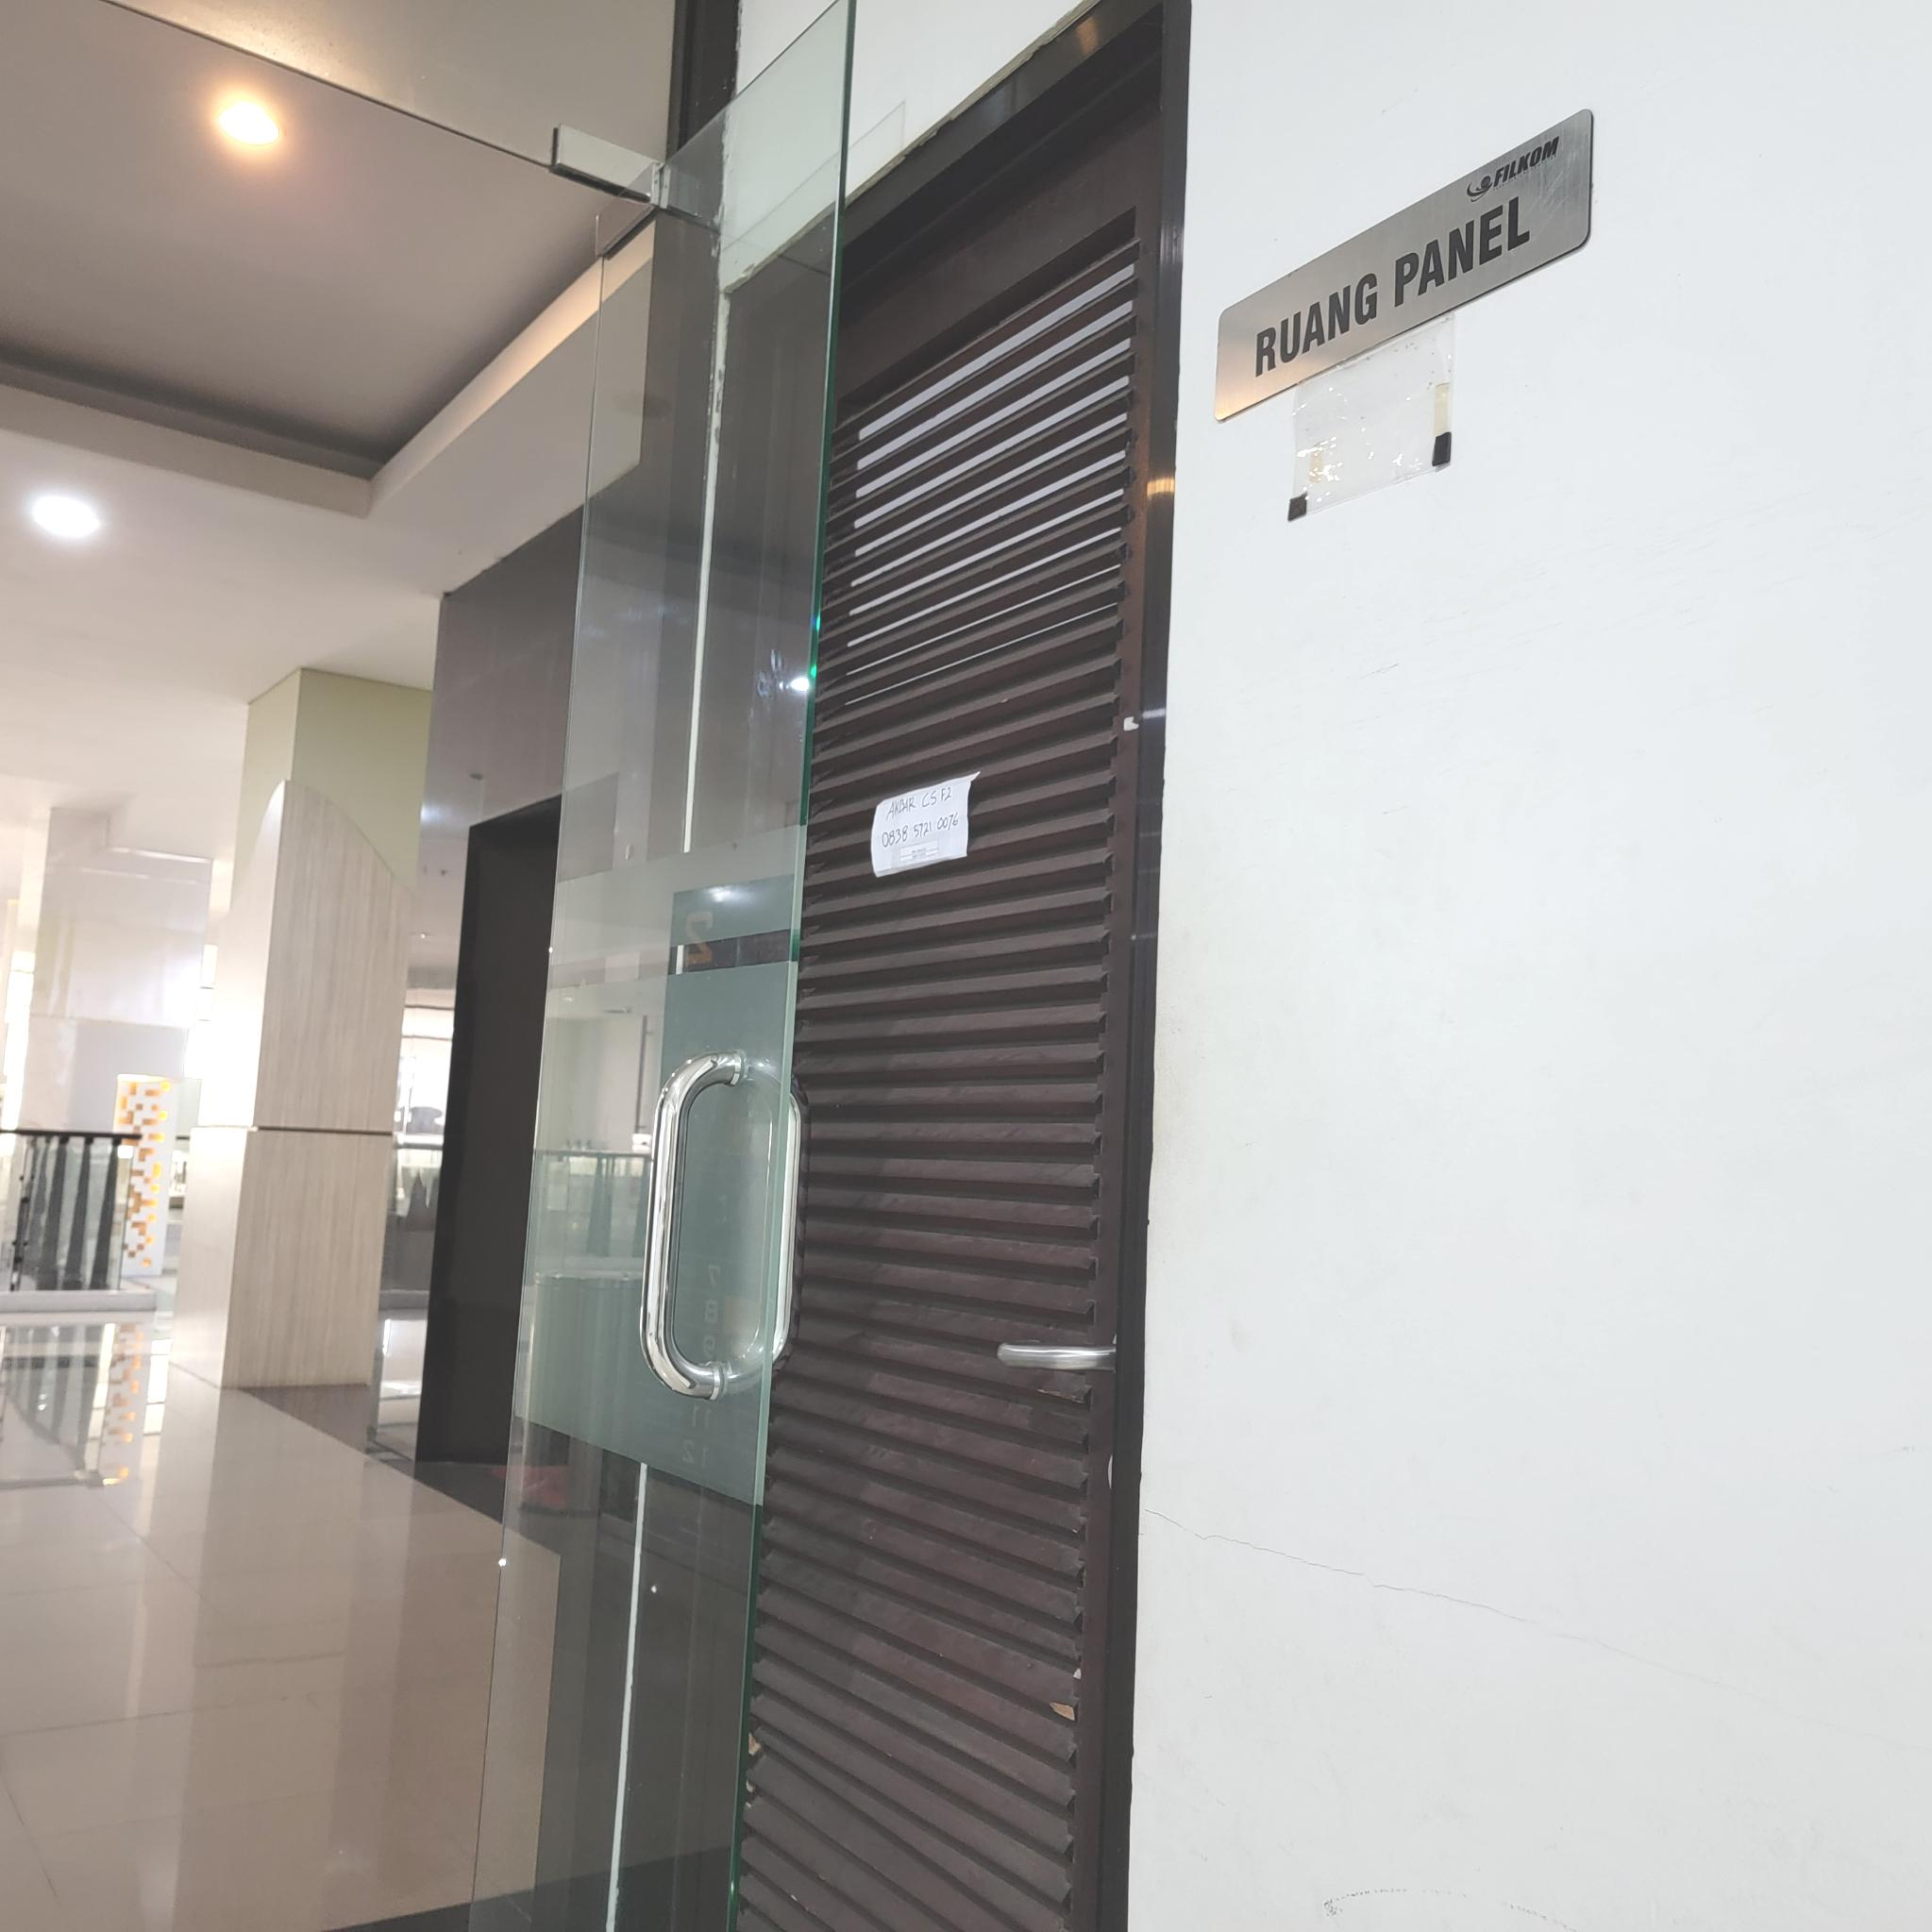plate: (1217, 106, 1594, 423)
